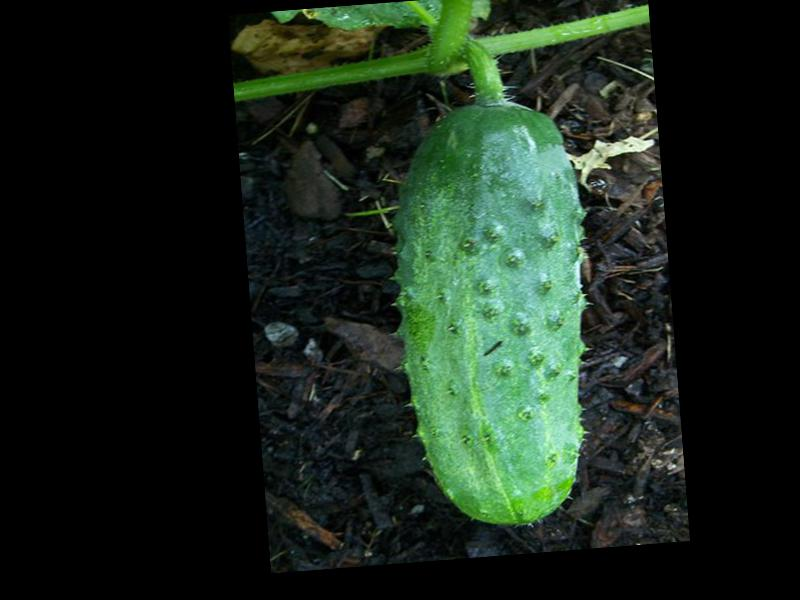Cucumber: (380, 95, 605, 535)
